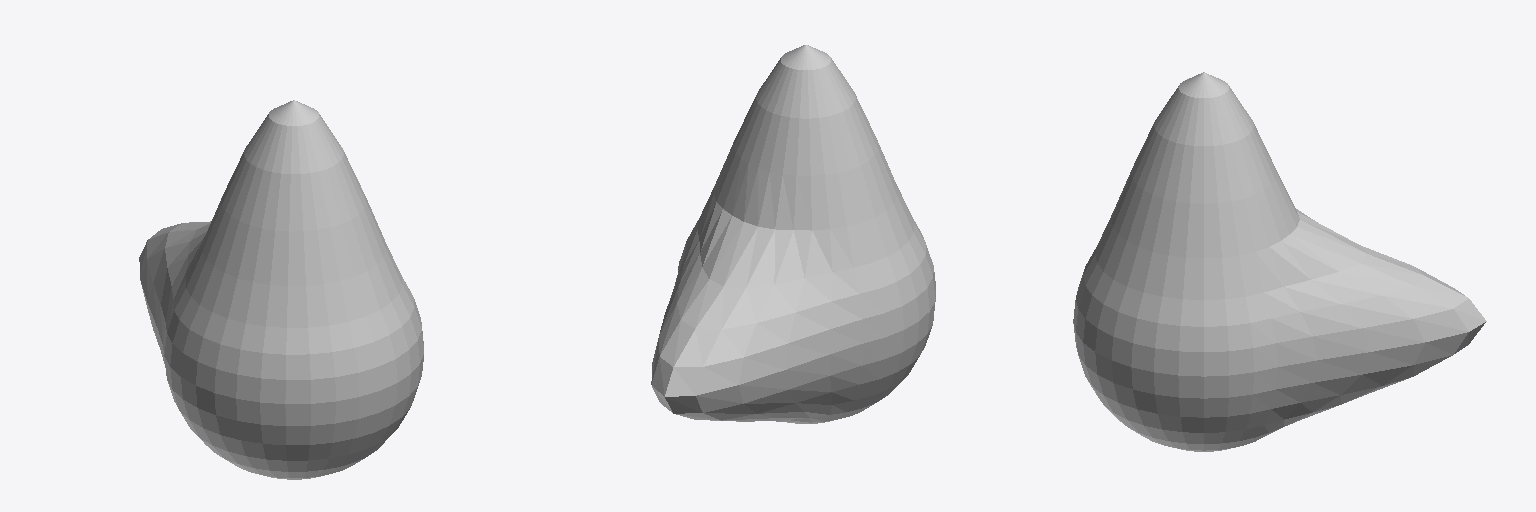
The model's file is poopie.obj.
The picture shows the model from 3 angles: view 1: azimuth 30°, elevation 25°; view 2: azimuth 150°, elevation 25°; view 3: azimuth 270°, elevation 25°; orthographic projection.
Parts seen in each view (by area): view 1: Sphere; view 2: Sphere; view 3: Sphere.
Part boxes in pixels (x1,y1,x2,y2): Sphere: (139,100,423,479); Sphere: (651,45,935,423); Sphere: (1073,72,1486,451).
Bounding box in the file's own units: 2 × 3.1 × 3.16.